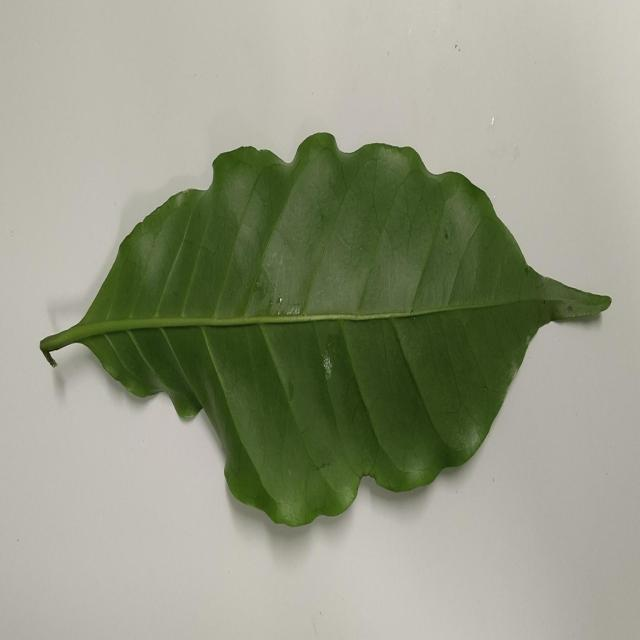Sanas: (38, 134, 613, 531)
